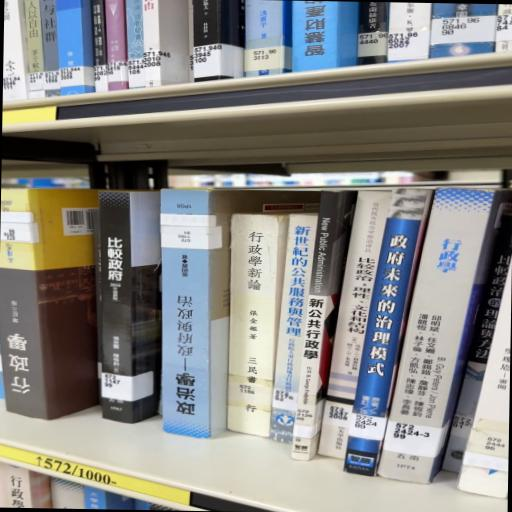reverse: (161, 190, 318, 440), (1, 190, 99, 421)
